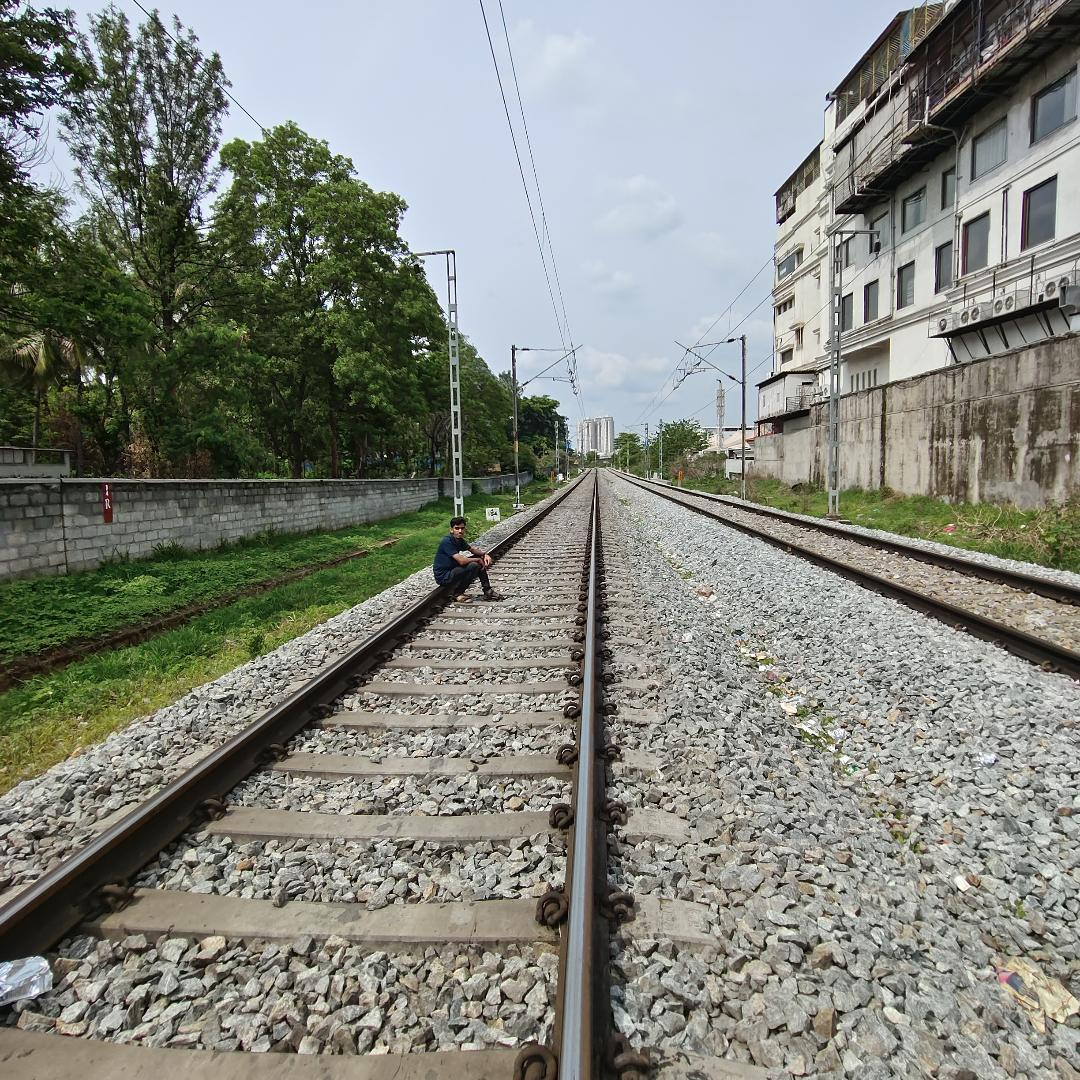sitting: (430, 514, 516, 618)
track: (0, 468, 726, 1080)
